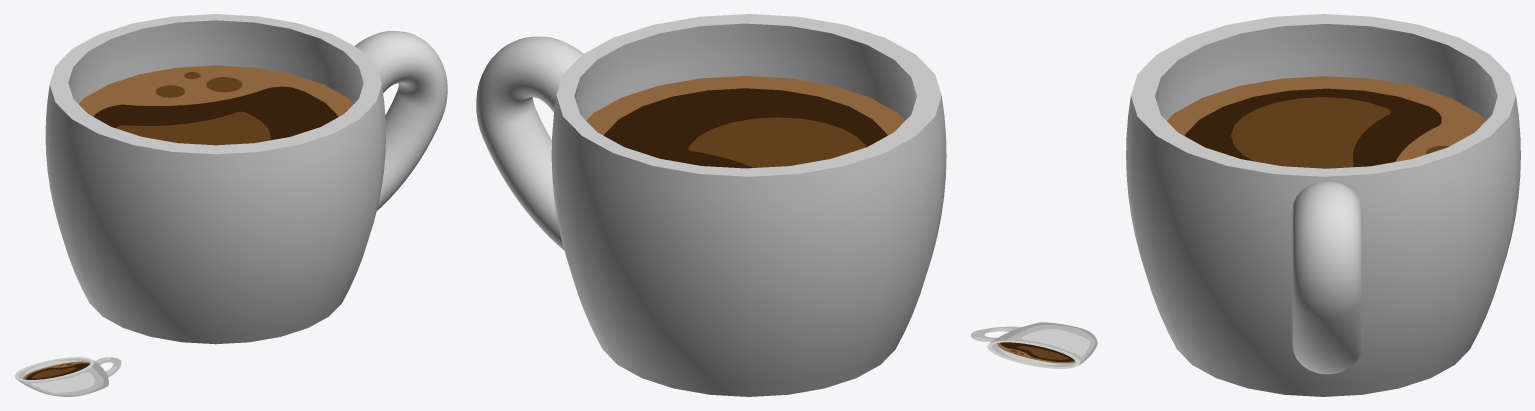
The model's file is CoffeCup.dae.
The picture shows the model from 3 angles, left to right: view 1: azimuth 30°, elevation 25°; view 2: azimuth 150°, elevation 25°; view 3: azimuth 270°, elevation 25°; orthographic projection. The views are drawn at different scales.
Parts seen in each view (by area): view 1: group_1 (×5), group_2, group_0 (×3); view 2: group_1 (×4), group_2, group_0 (×3); view 3: group_1 (×4), group_2.
Boxes of the visible parts, <box> form: group_1 (×5): <box>45,14,385,344</box>; group_2: <box>355,31,447,210</box>; group_0 (×3): <box>14,357,103,395</box>; group_1 (×4): <box>551,14,946,396</box>; group_2: <box>476,36,583,250</box>; group_0 (×3): <box>987,325,1095,368</box>; group_1 (×4): <box>1126,14,1520,396</box>; group_2: <box>1292,181,1362,374</box>.
Size of the model in its own units: 164 by 103 by 70.11.
